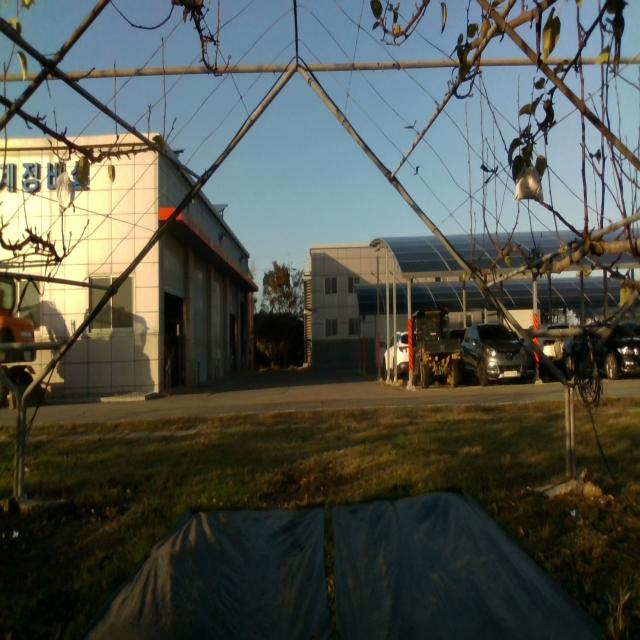pearbags: (513, 160, 545, 203), (55, 170, 75, 216)
